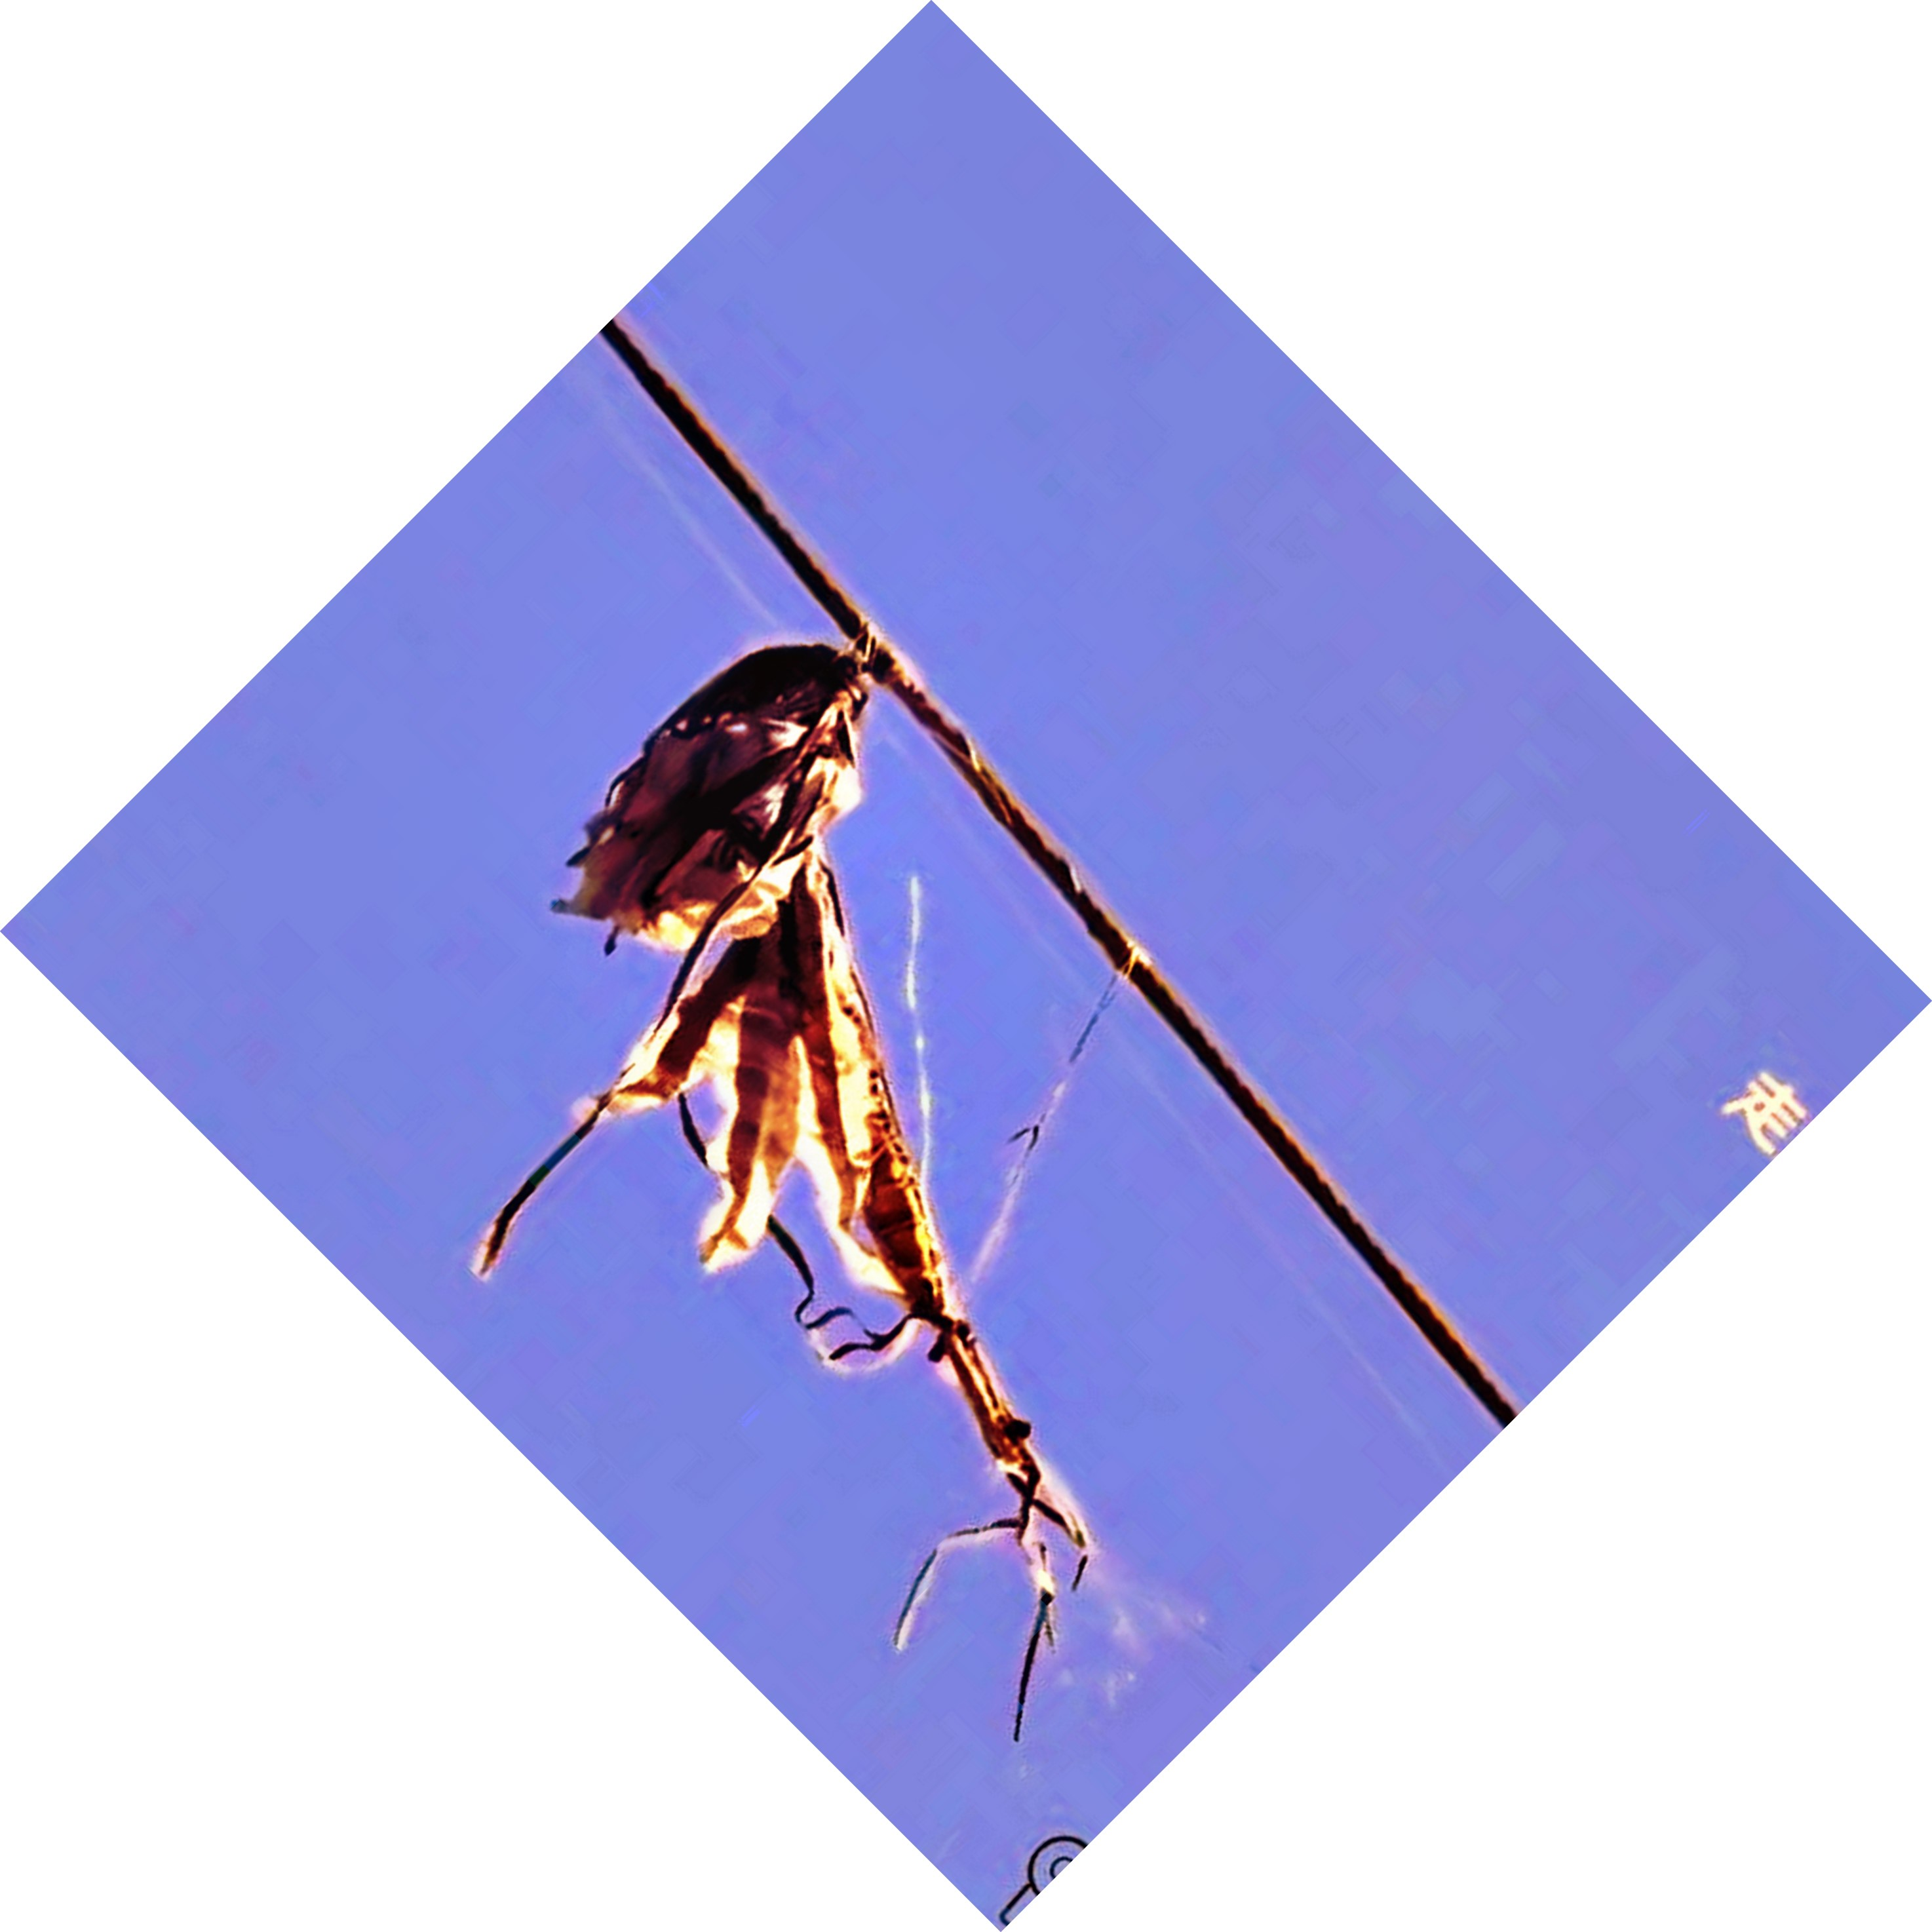wire foreign body: (495, 566, 1208, 1575)
